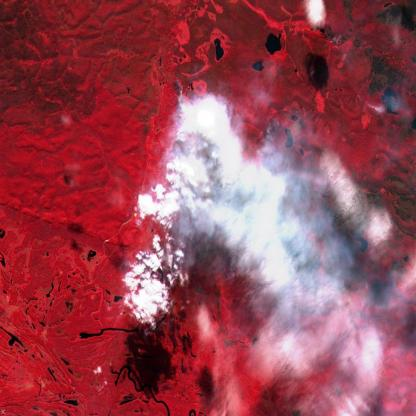fire: (166, 77, 290, 253)
